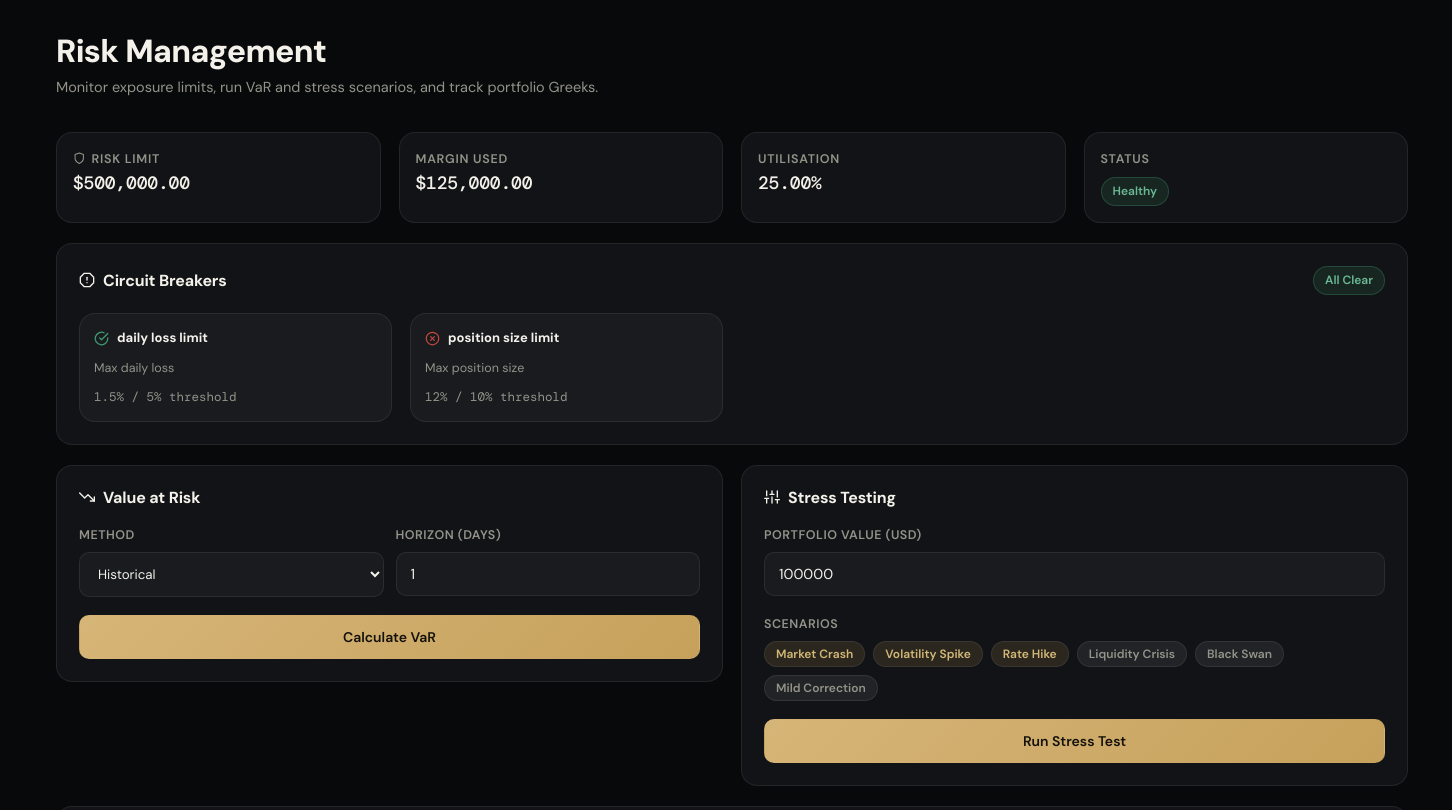
Test: Stress testing › runs the three default scenarios against a 100k portfolio
expect the heading "Circuit Breakers" is shown: met, box [79,271,227,290]
Click the button "Run Stress Test" at (1074, 741), box [764,719,1385,763]
(page scrolled)
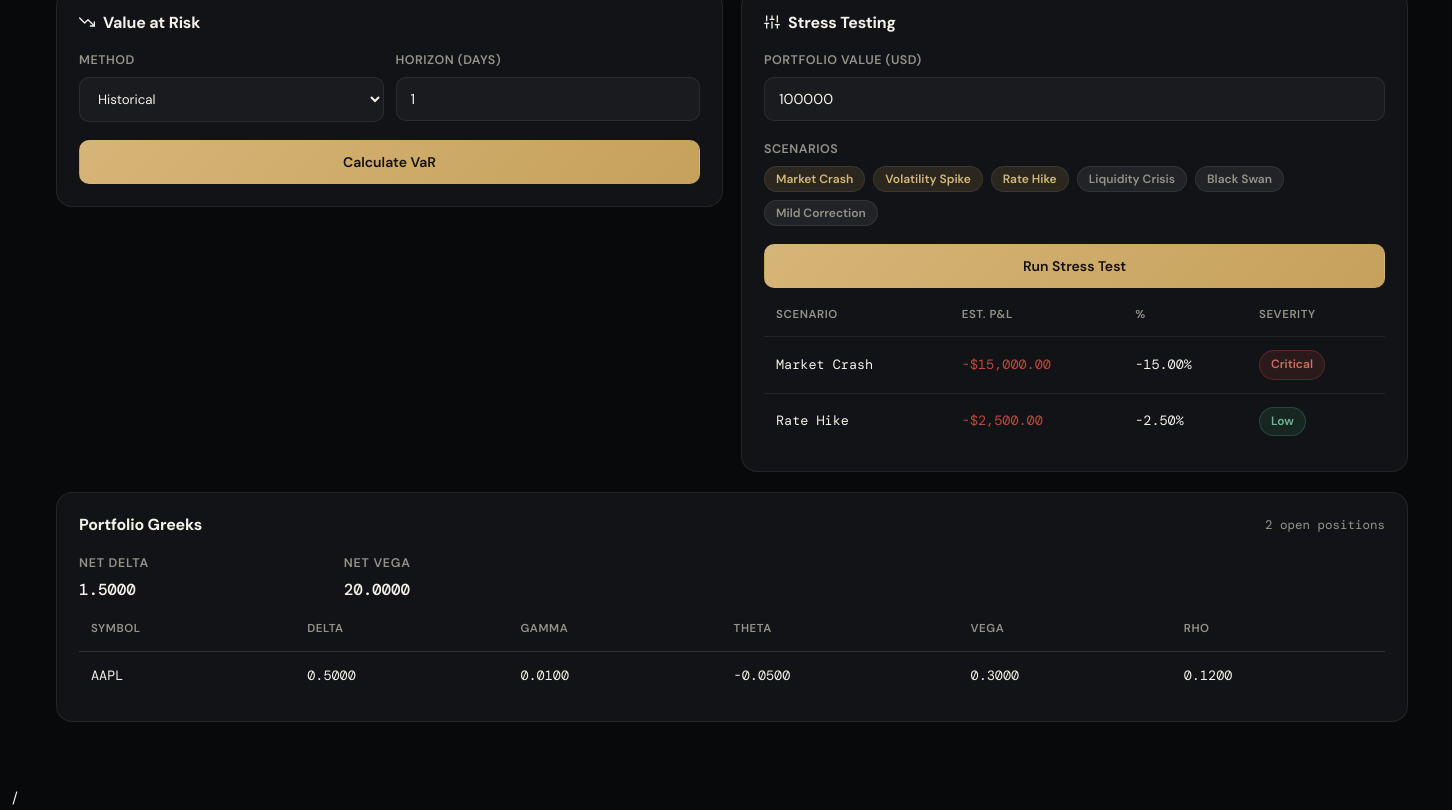
expect the text "-$15,000.00" is shown: met, box [950,337,1123,393]
expect the text "-15.00%" is shown: met, box [1123,337,1247,393]
expect the text "critical" is shown: met, box [1259,350,1325,380]
